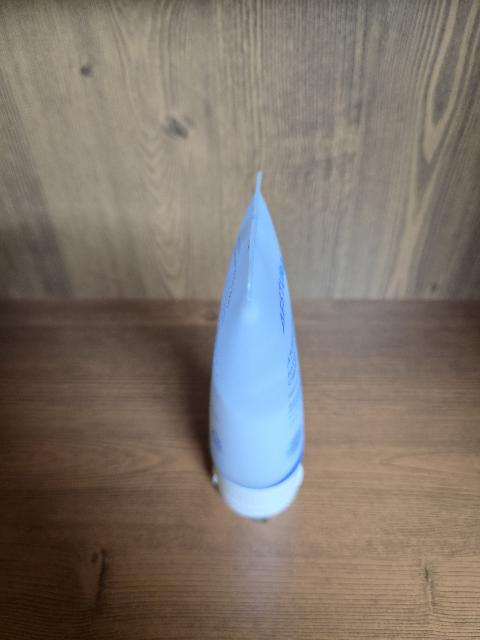handcream: (209, 172, 304, 517)
